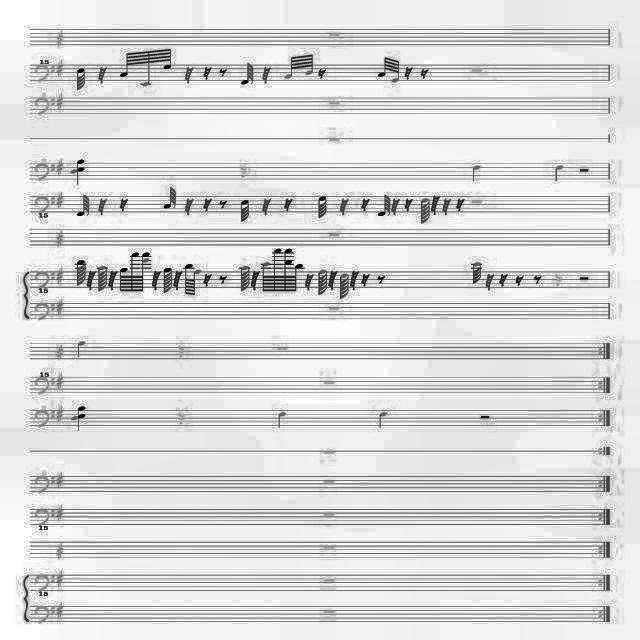Bass-clef: (27, 194, 57, 226), (28, 268, 56, 296), (25, 95, 55, 121), (28, 60, 56, 86), (27, 158, 57, 182), (28, 300, 56, 324)
